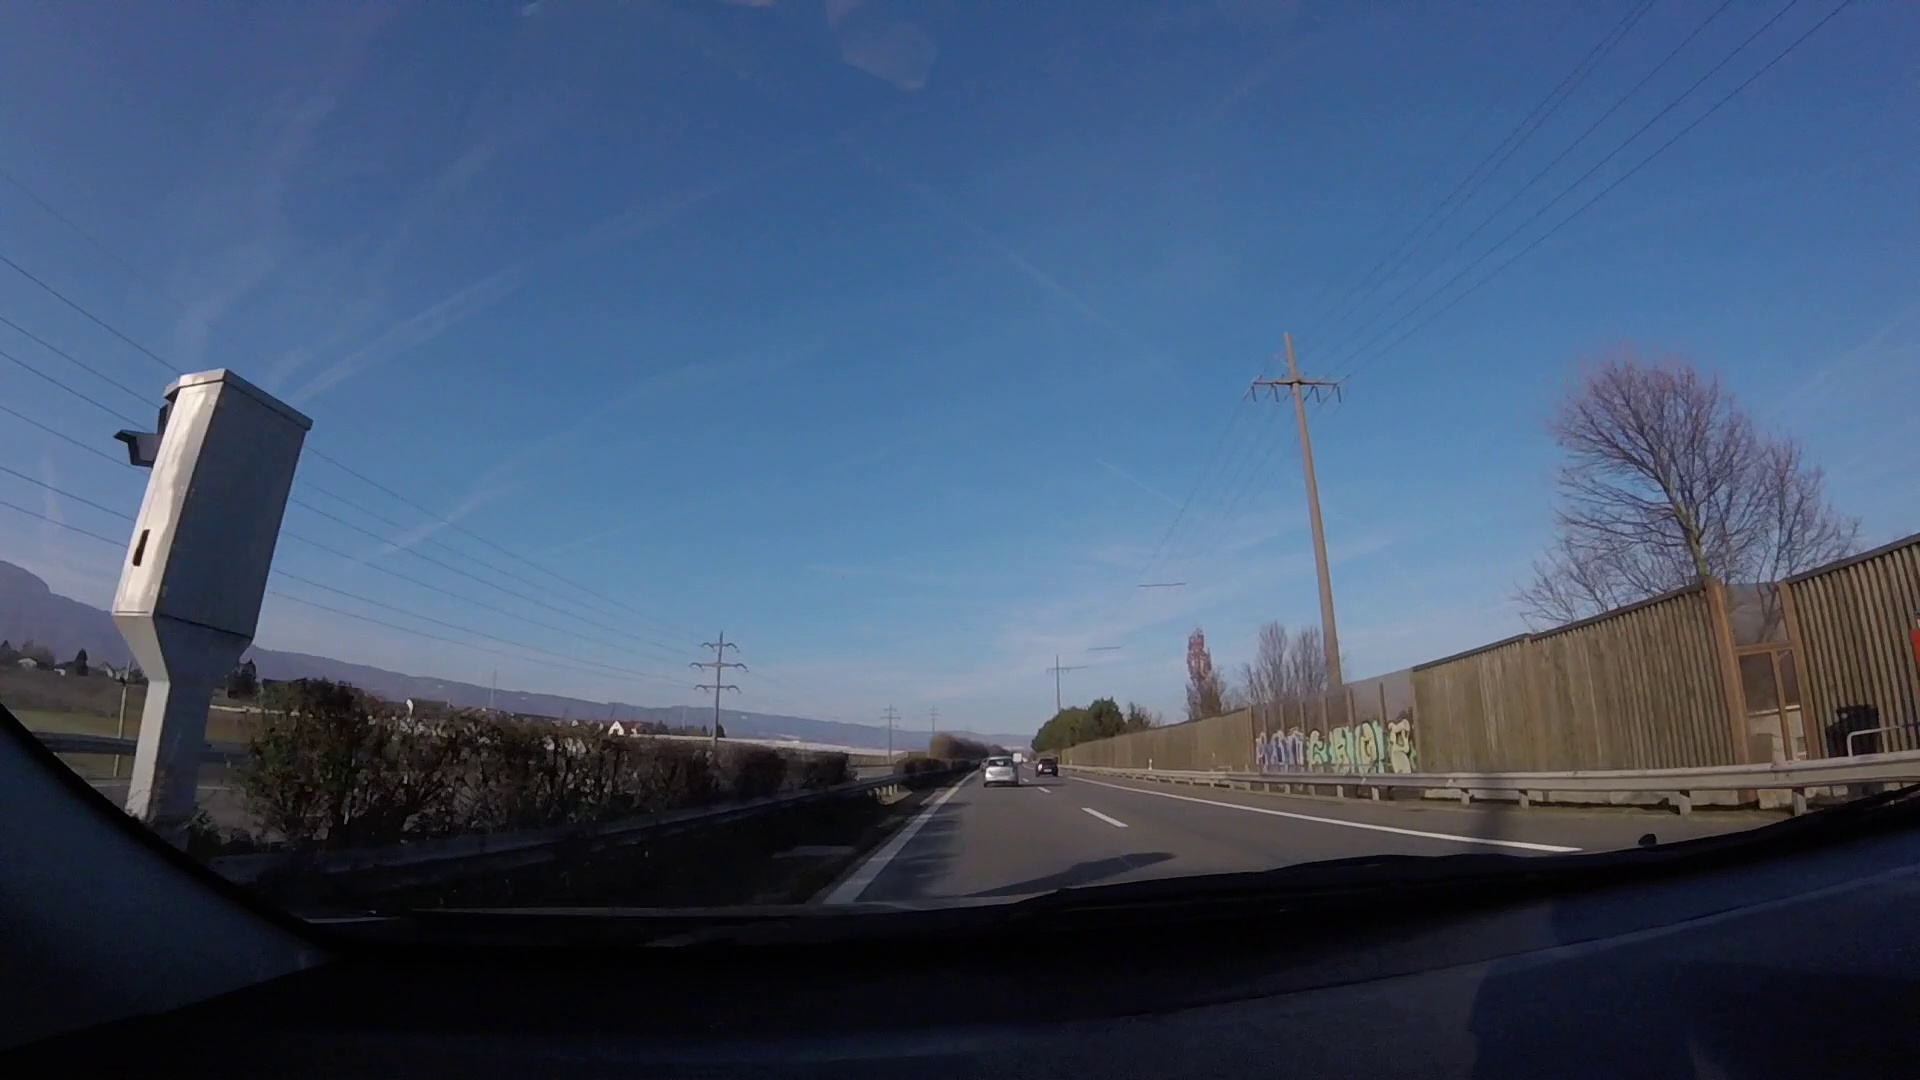radar: (104, 363, 322, 844)
